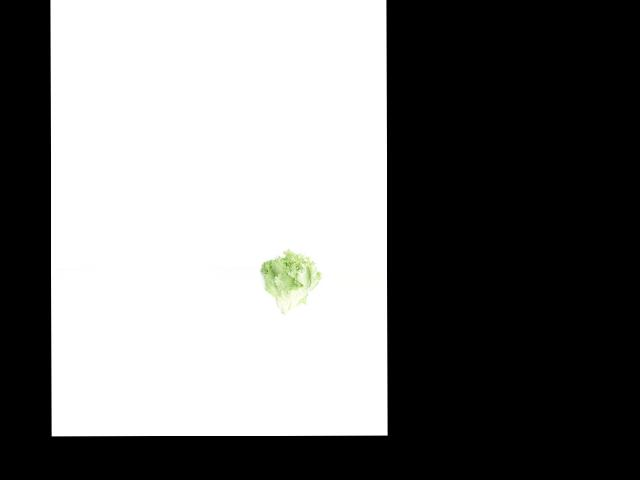lettuce: (259, 250, 323, 315)
